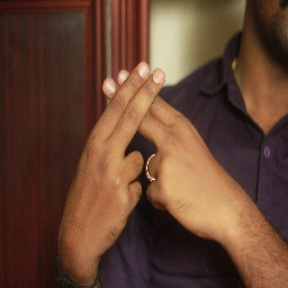F: (75, 56, 197, 196)
